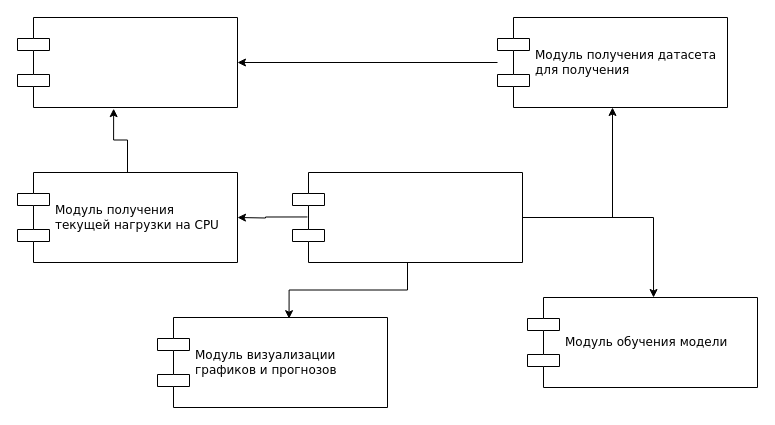
Some shapes in this 775 by 425 pixel diagram are drawn without their labels. The shapes that lost their labels are listed below. From the top down, each one's centre as x and y in pixels, then its label:
At pixel 127 62: "Модуль взаимодействия с БД Prometheus".
At pixel 407 217: "Модуль прогнозирования нагрузки на CPU".
